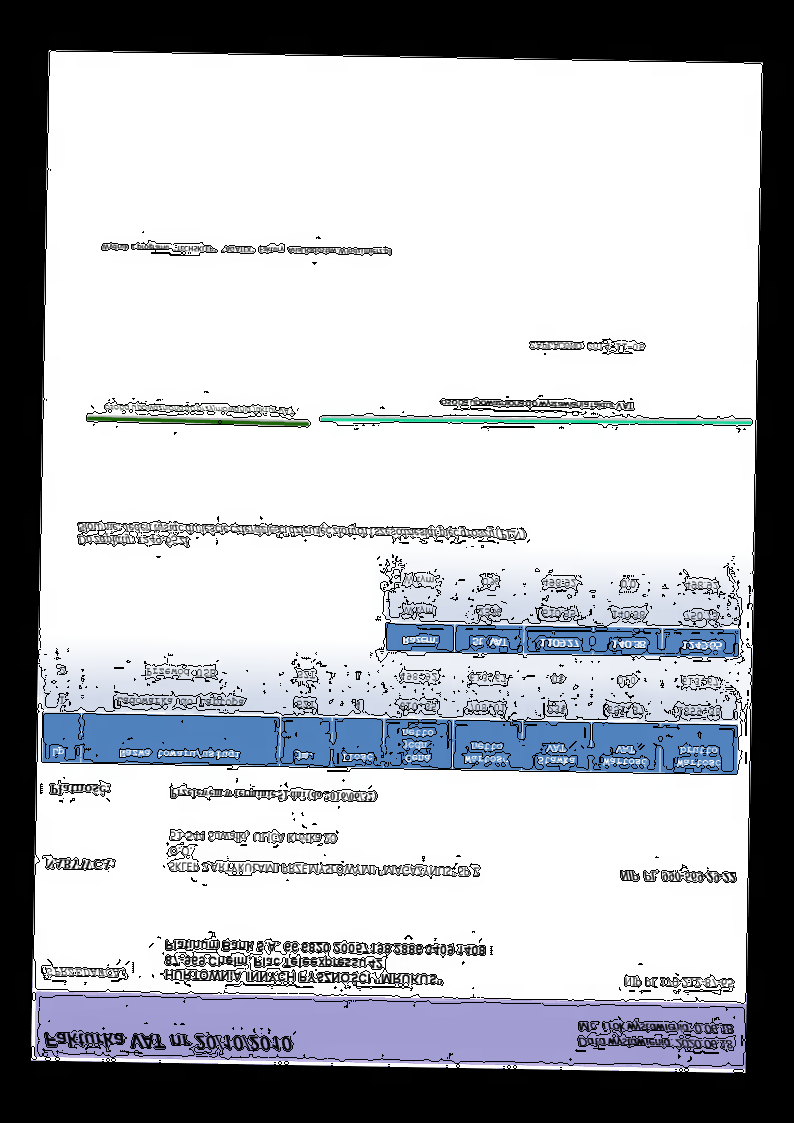Table: (40, 648, 740, 777), (384, 560, 742, 660)
TextBox: (162, 935, 488, 990), (74, 518, 528, 556), (168, 828, 480, 879), (41, 1028, 294, 1054), (574, 1020, 739, 1053), (99, 241, 395, 259), (168, 786, 378, 805), (102, 400, 296, 418), (437, 396, 635, 413), (618, 867, 736, 887), (620, 974, 734, 993), (528, 339, 646, 354), (41, 965, 128, 981), (43, 856, 116, 873), (49, 782, 111, 799)
